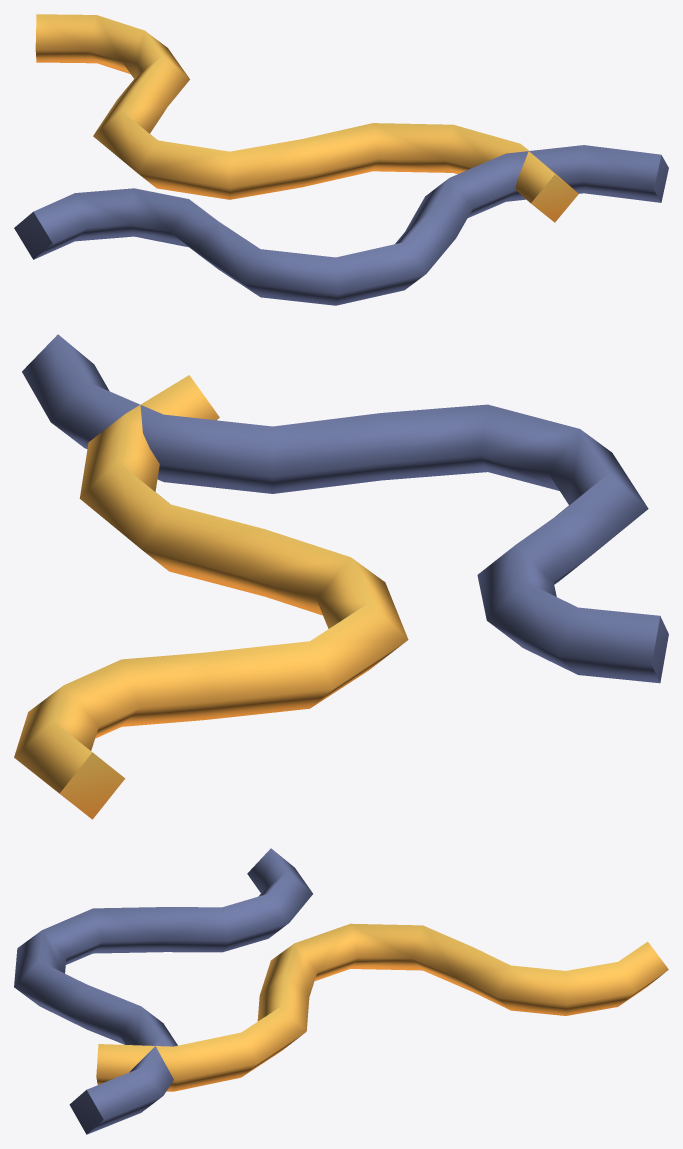
File: cables.glb
3 renders of one model, top to bottom at view 1: azimuth 30°, elevation 25°; view 2: azimuth 150°, elevation 25°; view 3: azimuth 270°, elevation 25°, orthographic. The views are drawn at different scales.
Parts seen in each view (by area): view 1: cables; view 2: cables; view 3: cables.
Part boxes in pixels (x1,y1,x2,y2): cables: [14, 14, 668, 305]; cables: [14, 334, 668, 819]; cables: [14, 848, 668, 1134].
Bounding box in the file's own units: 1.91 × 0.1599 × 2.1.
1 material, 1 textured.
